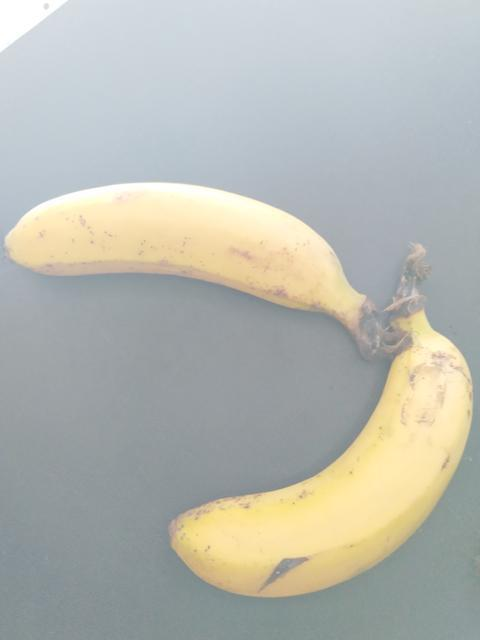ripe: (1, 127, 403, 347), (165, 321, 467, 606)
